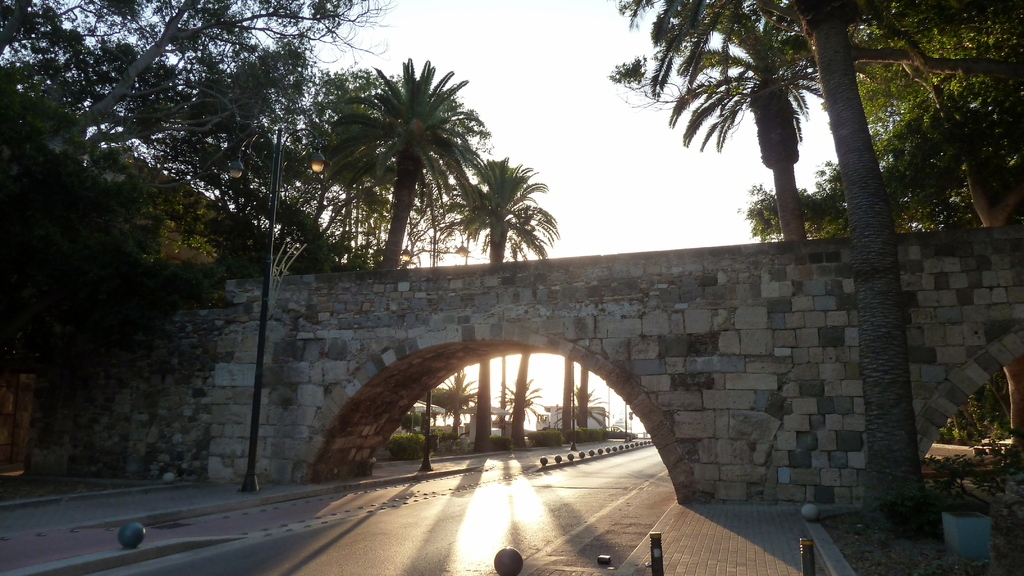Ball: (493, 548, 522, 575), (121, 525, 146, 548)
